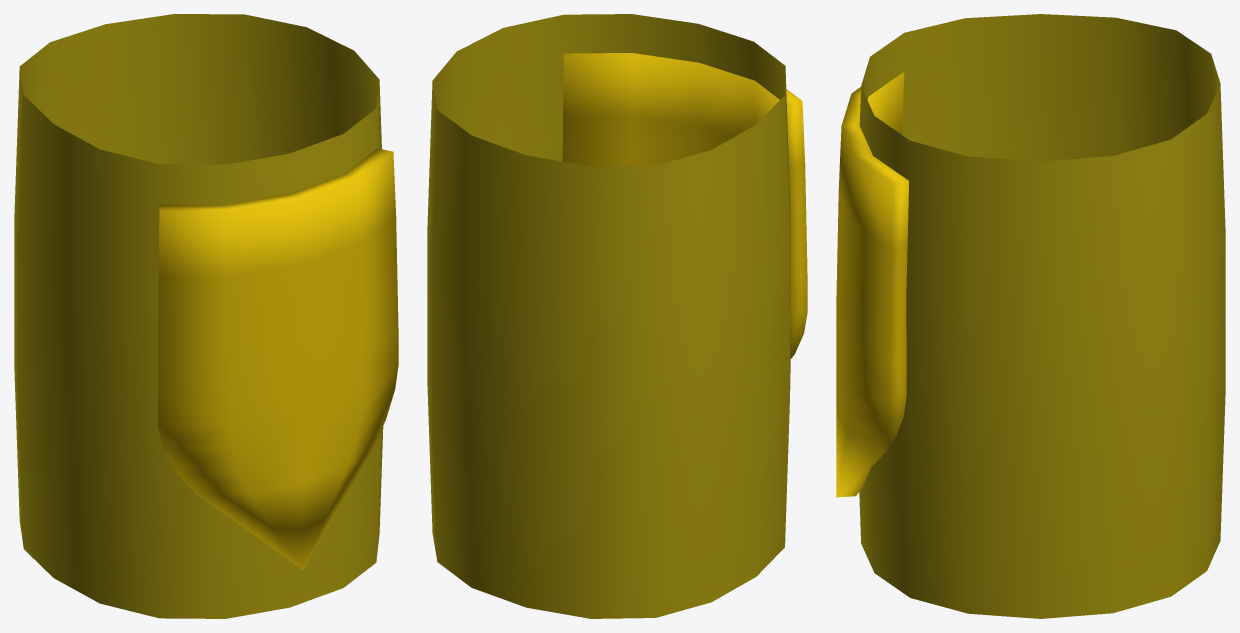
Rendered from sol_dizlik.fbx.
3 views of the same model, side by side, from view 1: azimuth 30°, elevation 25°; view 2: azimuth 150°, elevation 25°; view 3: azimuth 270°, elevation 25° (orthographic).
Visible parts, largest first — view 1: sol_dizlik1; view 2: sol_dizlik1; view 3: sol_dizlik1.
Boxes of the visible parts, left/top/right/bottom form: sol_dizlik1: left=14, top=14, right=398, bottom=618; sol_dizlik1: left=427, top=14, right=807, bottom=618; sol_dizlik1: left=836, top=14, right=1225, bottom=618.
Bounding box in the file's own units: 13.98 × 19.62 × 15.14.
